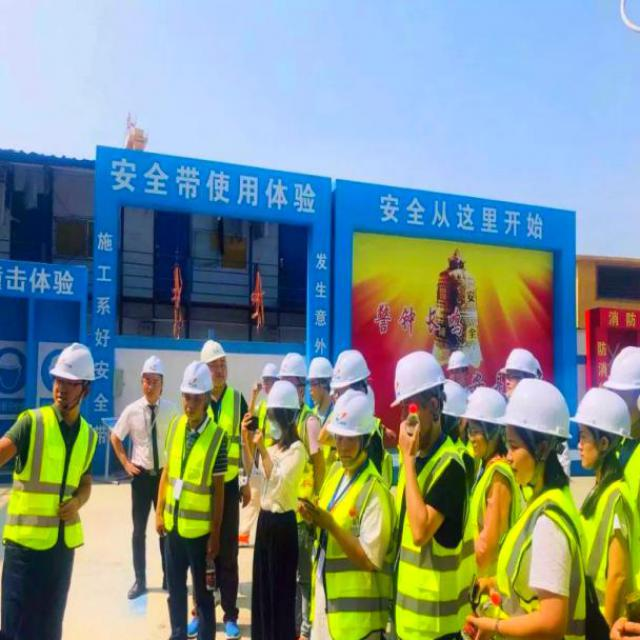helmet: (502, 382, 574, 486), (572, 377, 632, 472), (392, 352, 449, 446), (325, 385, 376, 473), (463, 375, 504, 469), (51, 330, 95, 416), (490, 347, 554, 394), (196, 328, 232, 391), (265, 378, 299, 438), (174, 364, 212, 416), (135, 352, 168, 407), (301, 356, 335, 405)
vest: (488, 479, 595, 639), (393, 440, 475, 640), (310, 469, 390, 639), (12, 400, 84, 552), (579, 475, 639, 617), (167, 410, 217, 549)
